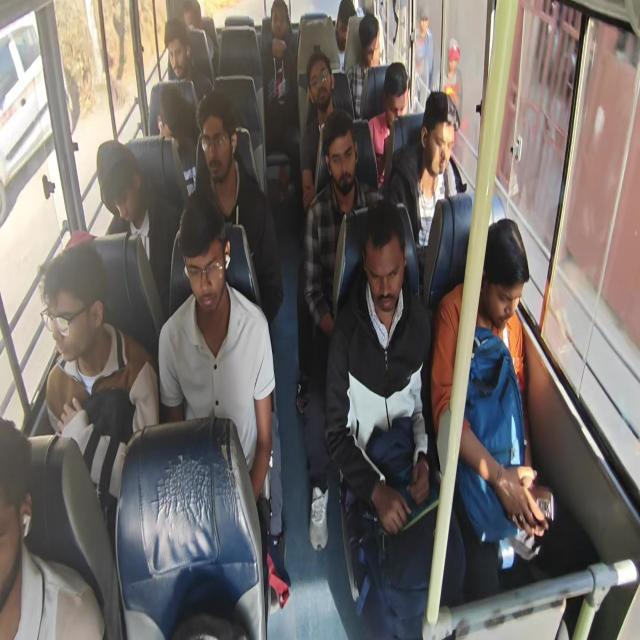person: (324, 198, 466, 638), (430, 217, 551, 598), (157, 188, 276, 531), (297, 109, 384, 550), (41, 238, 159, 528), (0, 415, 105, 638), (194, 90, 284, 324), (296, 51, 339, 414), (96, 139, 178, 316), (386, 90, 452, 261), (299, 50, 338, 214), (367, 61, 409, 192), (156, 81, 198, 194), (164, 17, 212, 101), (346, 13, 381, 119), (268, 0, 297, 101), (438, 92, 465, 198), (180, 0, 217, 74), (410, 7, 434, 108), (440, 37, 463, 126), (334, 0, 357, 71)
